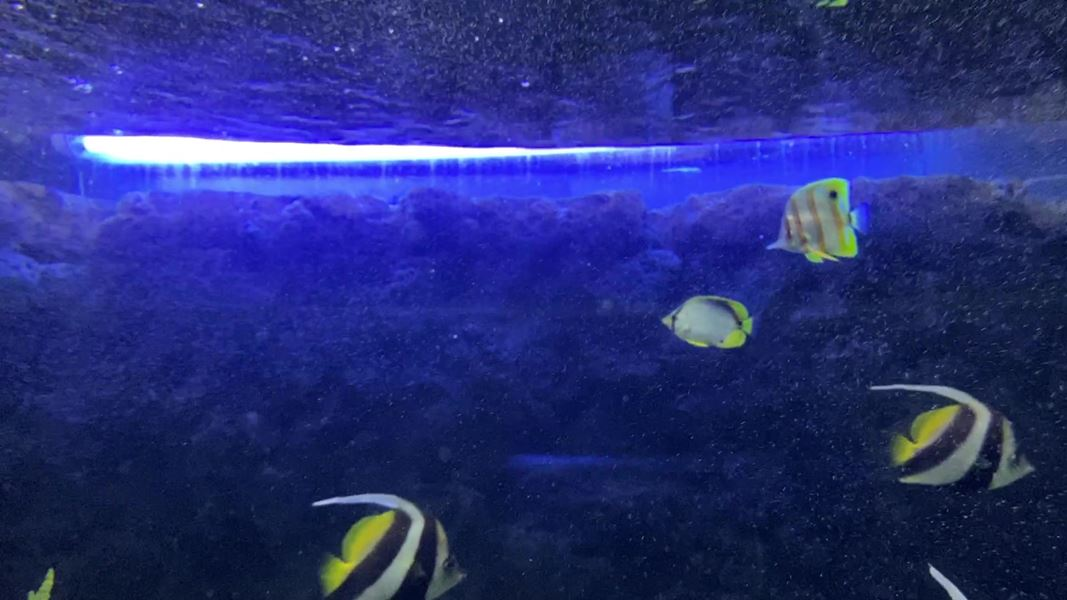Black-backed butterflyfish: (652, 291, 769, 359)
